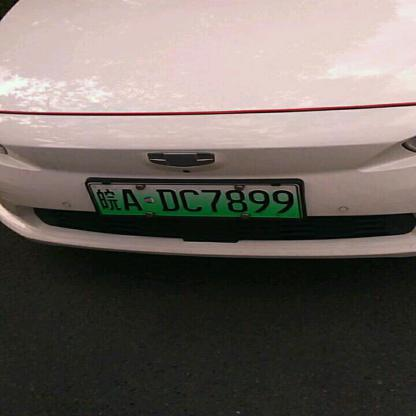lp: (89, 185, 300, 215)
